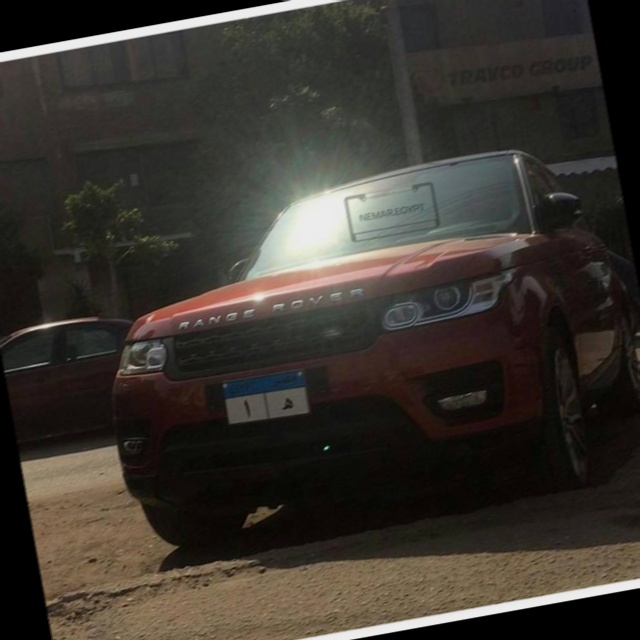License Plate: (217, 363, 314, 432)
